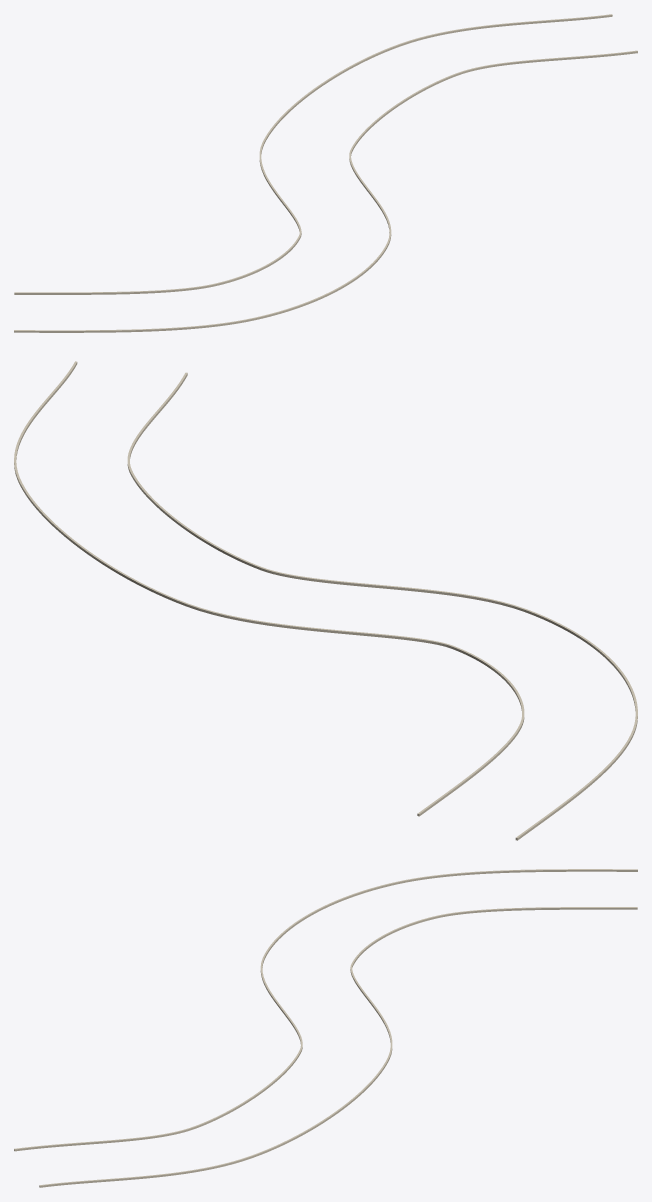
File: continuation_south_curb.glb
3 views of the same model, one above another, from view 1: azimuth 90°, elevation 25°; view 2: azimuth 150°, elevation 25°; view 3: azimuth 270°, elevation 25° (orthographic). The views are drawn at different scales.
Parts seen in each view (by area): view 1: continuation_south_curb_Mesh; view 2: continuation_south_curb_Mesh; view 3: continuation_south_curb_Mesh.
Boxes of the visible parts, x1,y1,x2,y2 form: continuation_south_curb_Mesh: [14, 14, 637, 332]; continuation_south_curb_Mesh: [14, 361, 637, 840]; continuation_south_curb_Mesh: [14, 869, 637, 1187].
Bounding box in the file's own units: 61.36 × 0.17 × 51.07.
